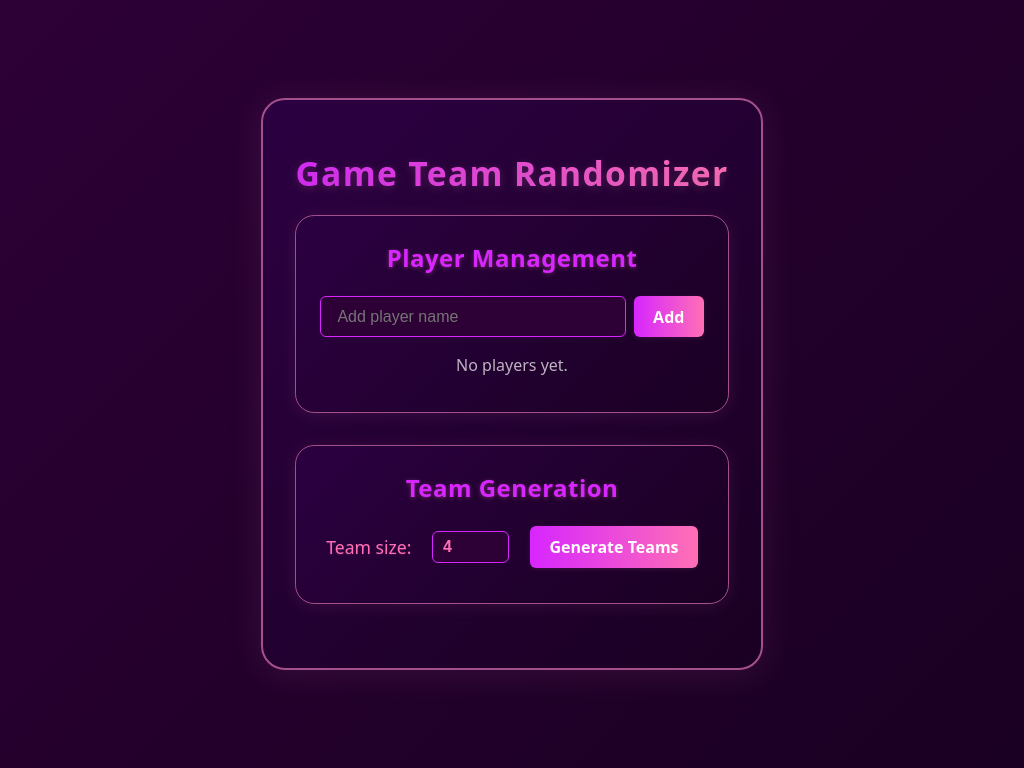
Test case: Game Team Randomizer - Unit Tests › Team Generation Logic › can use select all functionality
// Add players
Type "Alice" into the field with placeholder "Add player name" at point(473, 317), box [320,296,626,337]
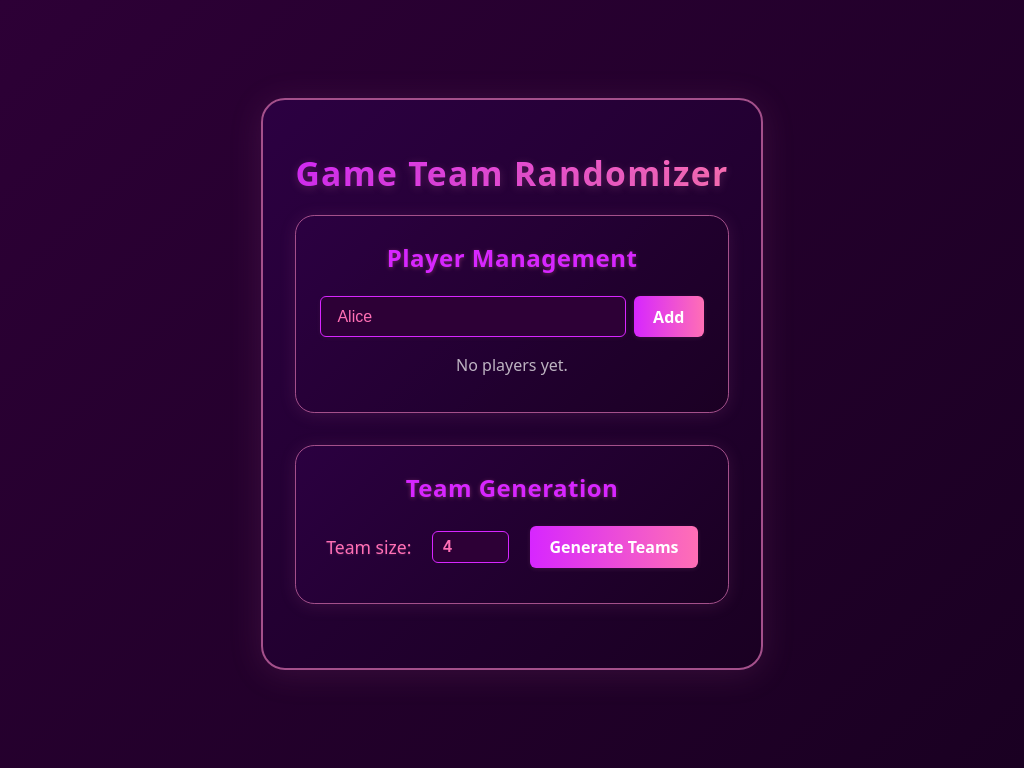
Press Enter in the field with placeholder "Add player name", box [320,296,626,337]
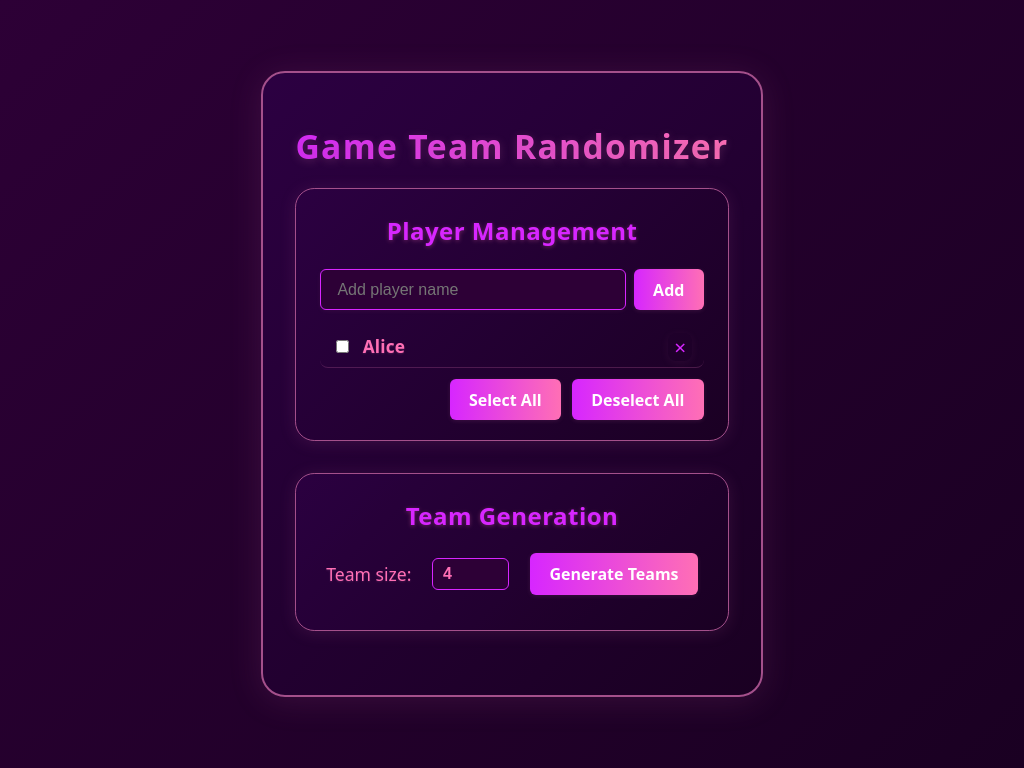
Type "Bob" into the field with placeholder "Add player name" at point(473, 290), box [320,269,626,310]
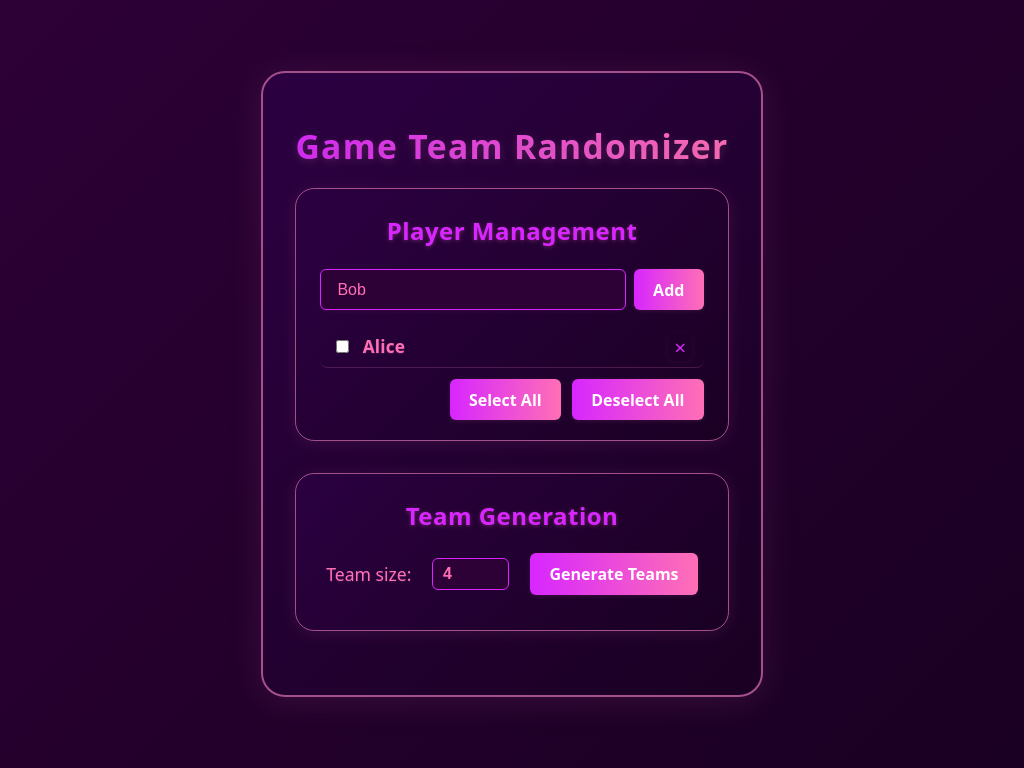
Press Enter in the field with placeholder "Add player name", box [320,269,626,310]
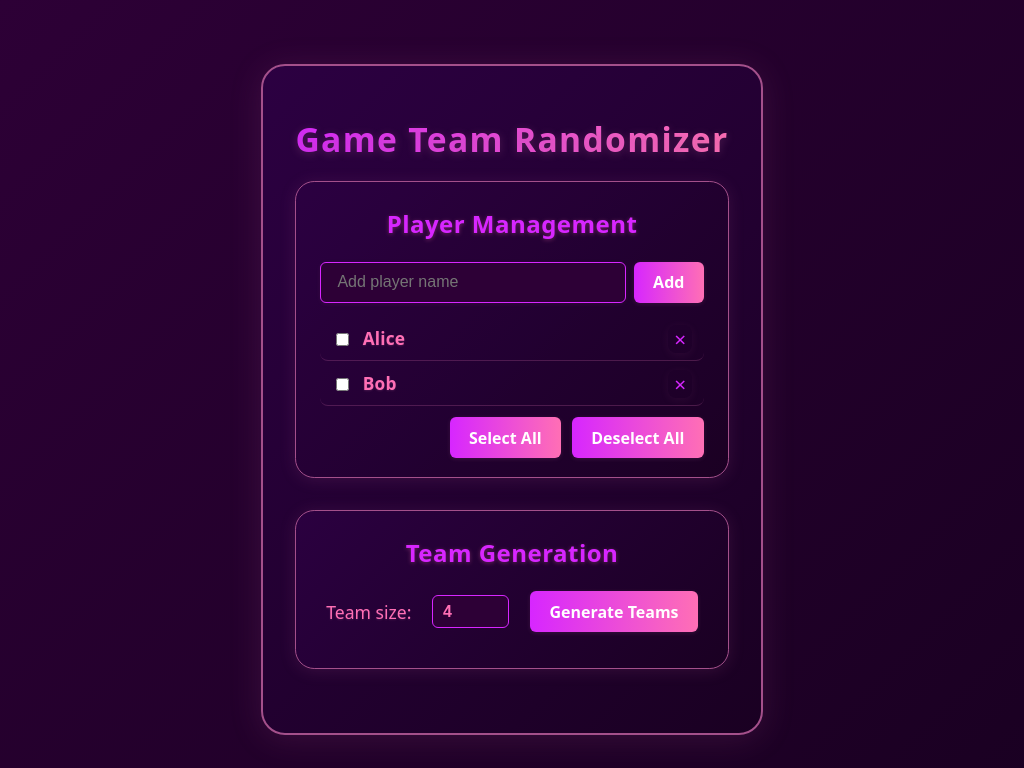
// Use select all
Click the button "Select All" at point(505, 438), box [450,417,561,458]
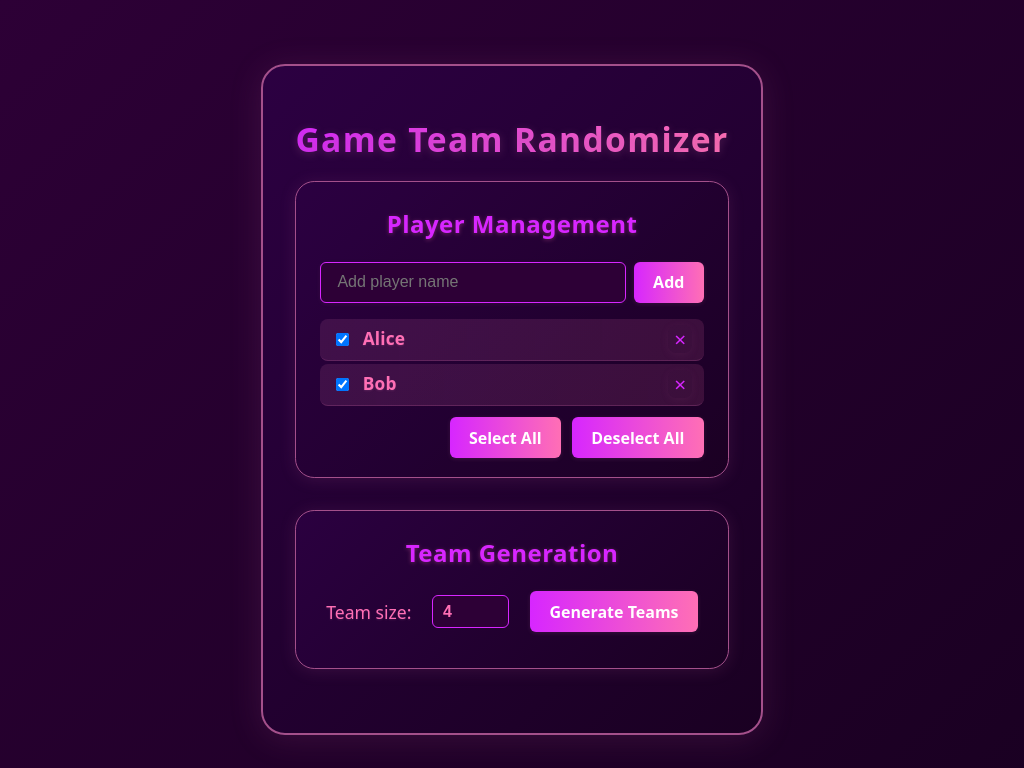
Result: the checkbox labelled "Alice" is checked at [336,333,349,346]
Result: the checkbox labelled "Bob" is checked at [336,378,349,391]
